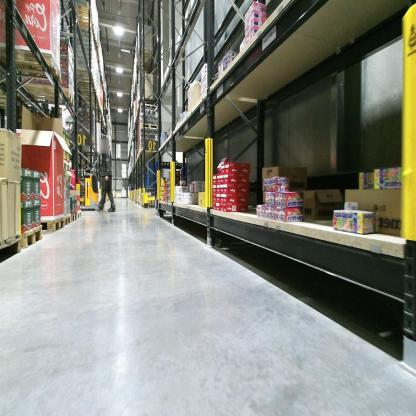pallet: (0, 41, 64, 82), (17, 79, 77, 106), (1, 234, 22, 268), (21, 223, 43, 254), (35, 217, 65, 234), (0, 92, 21, 112), (138, 123, 158, 131), (64, 215, 72, 228), (141, 203, 156, 209), (76, 210, 83, 220), (72, 212, 77, 224)
pallet_truck: (76, 161, 99, 210)
